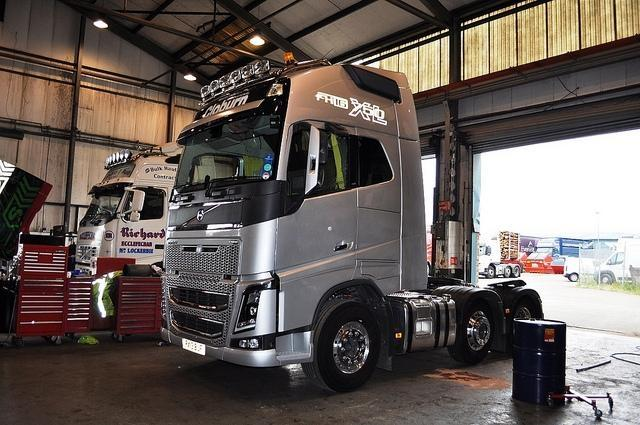truck: (157, 57, 546, 392), (73, 151, 171, 270), (476, 232, 553, 275), (595, 250, 640, 284)
